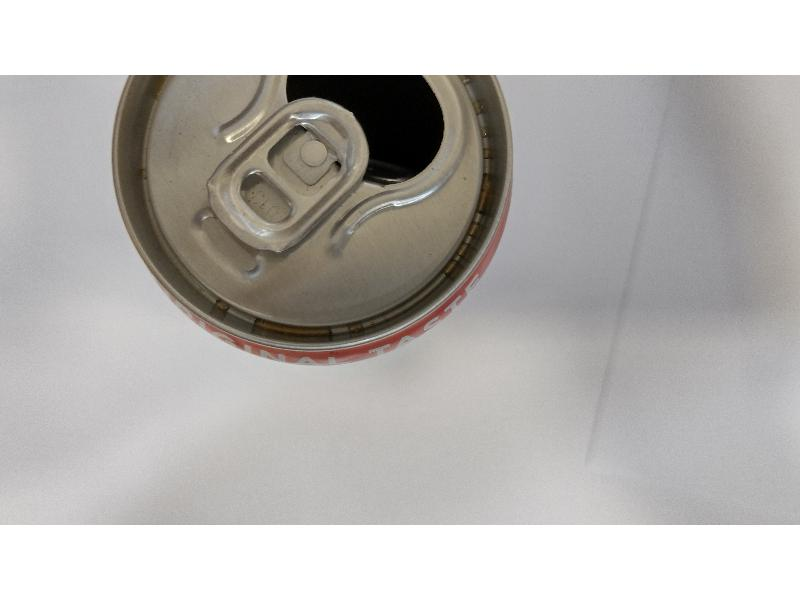can: (89, 75, 557, 387)
